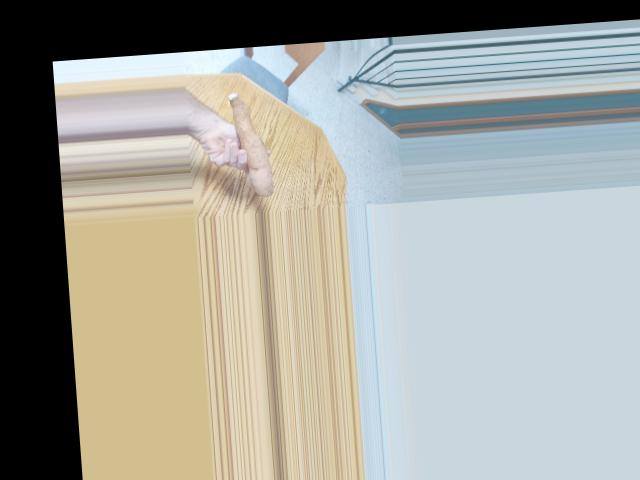sweet_potato: (221, 91, 279, 196)
